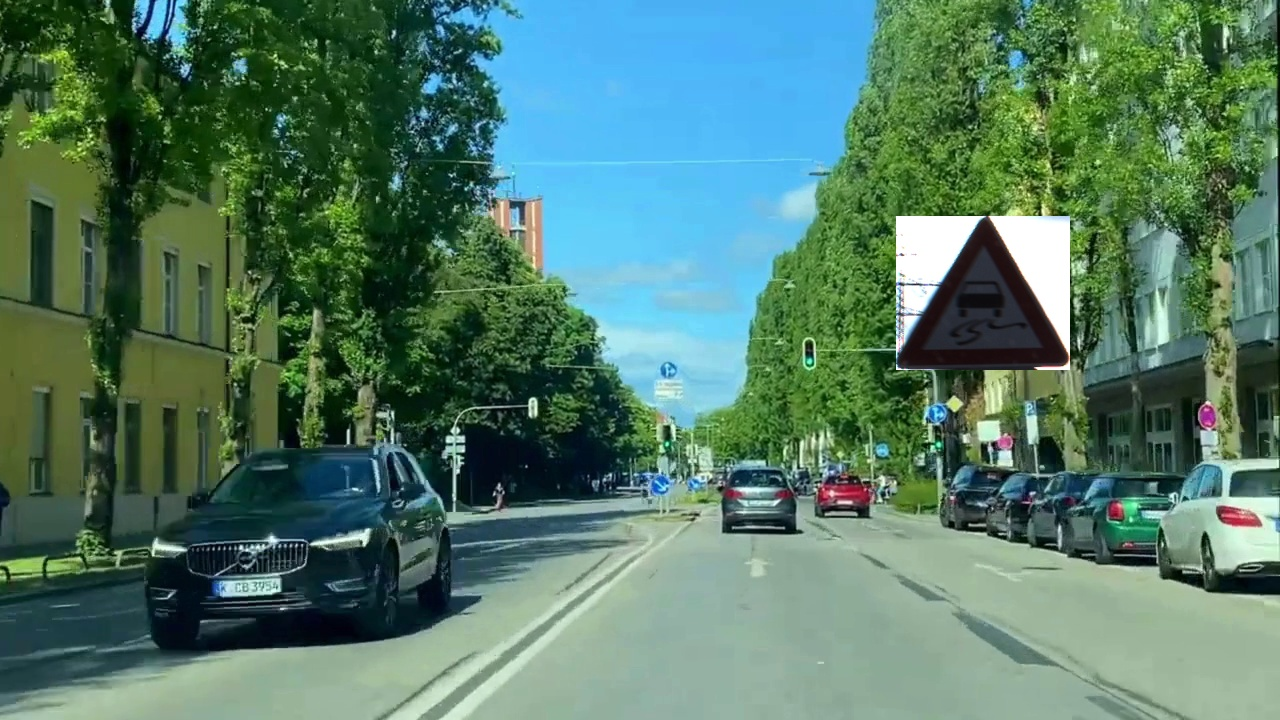Slippery: (896, 216, 1070, 370)
